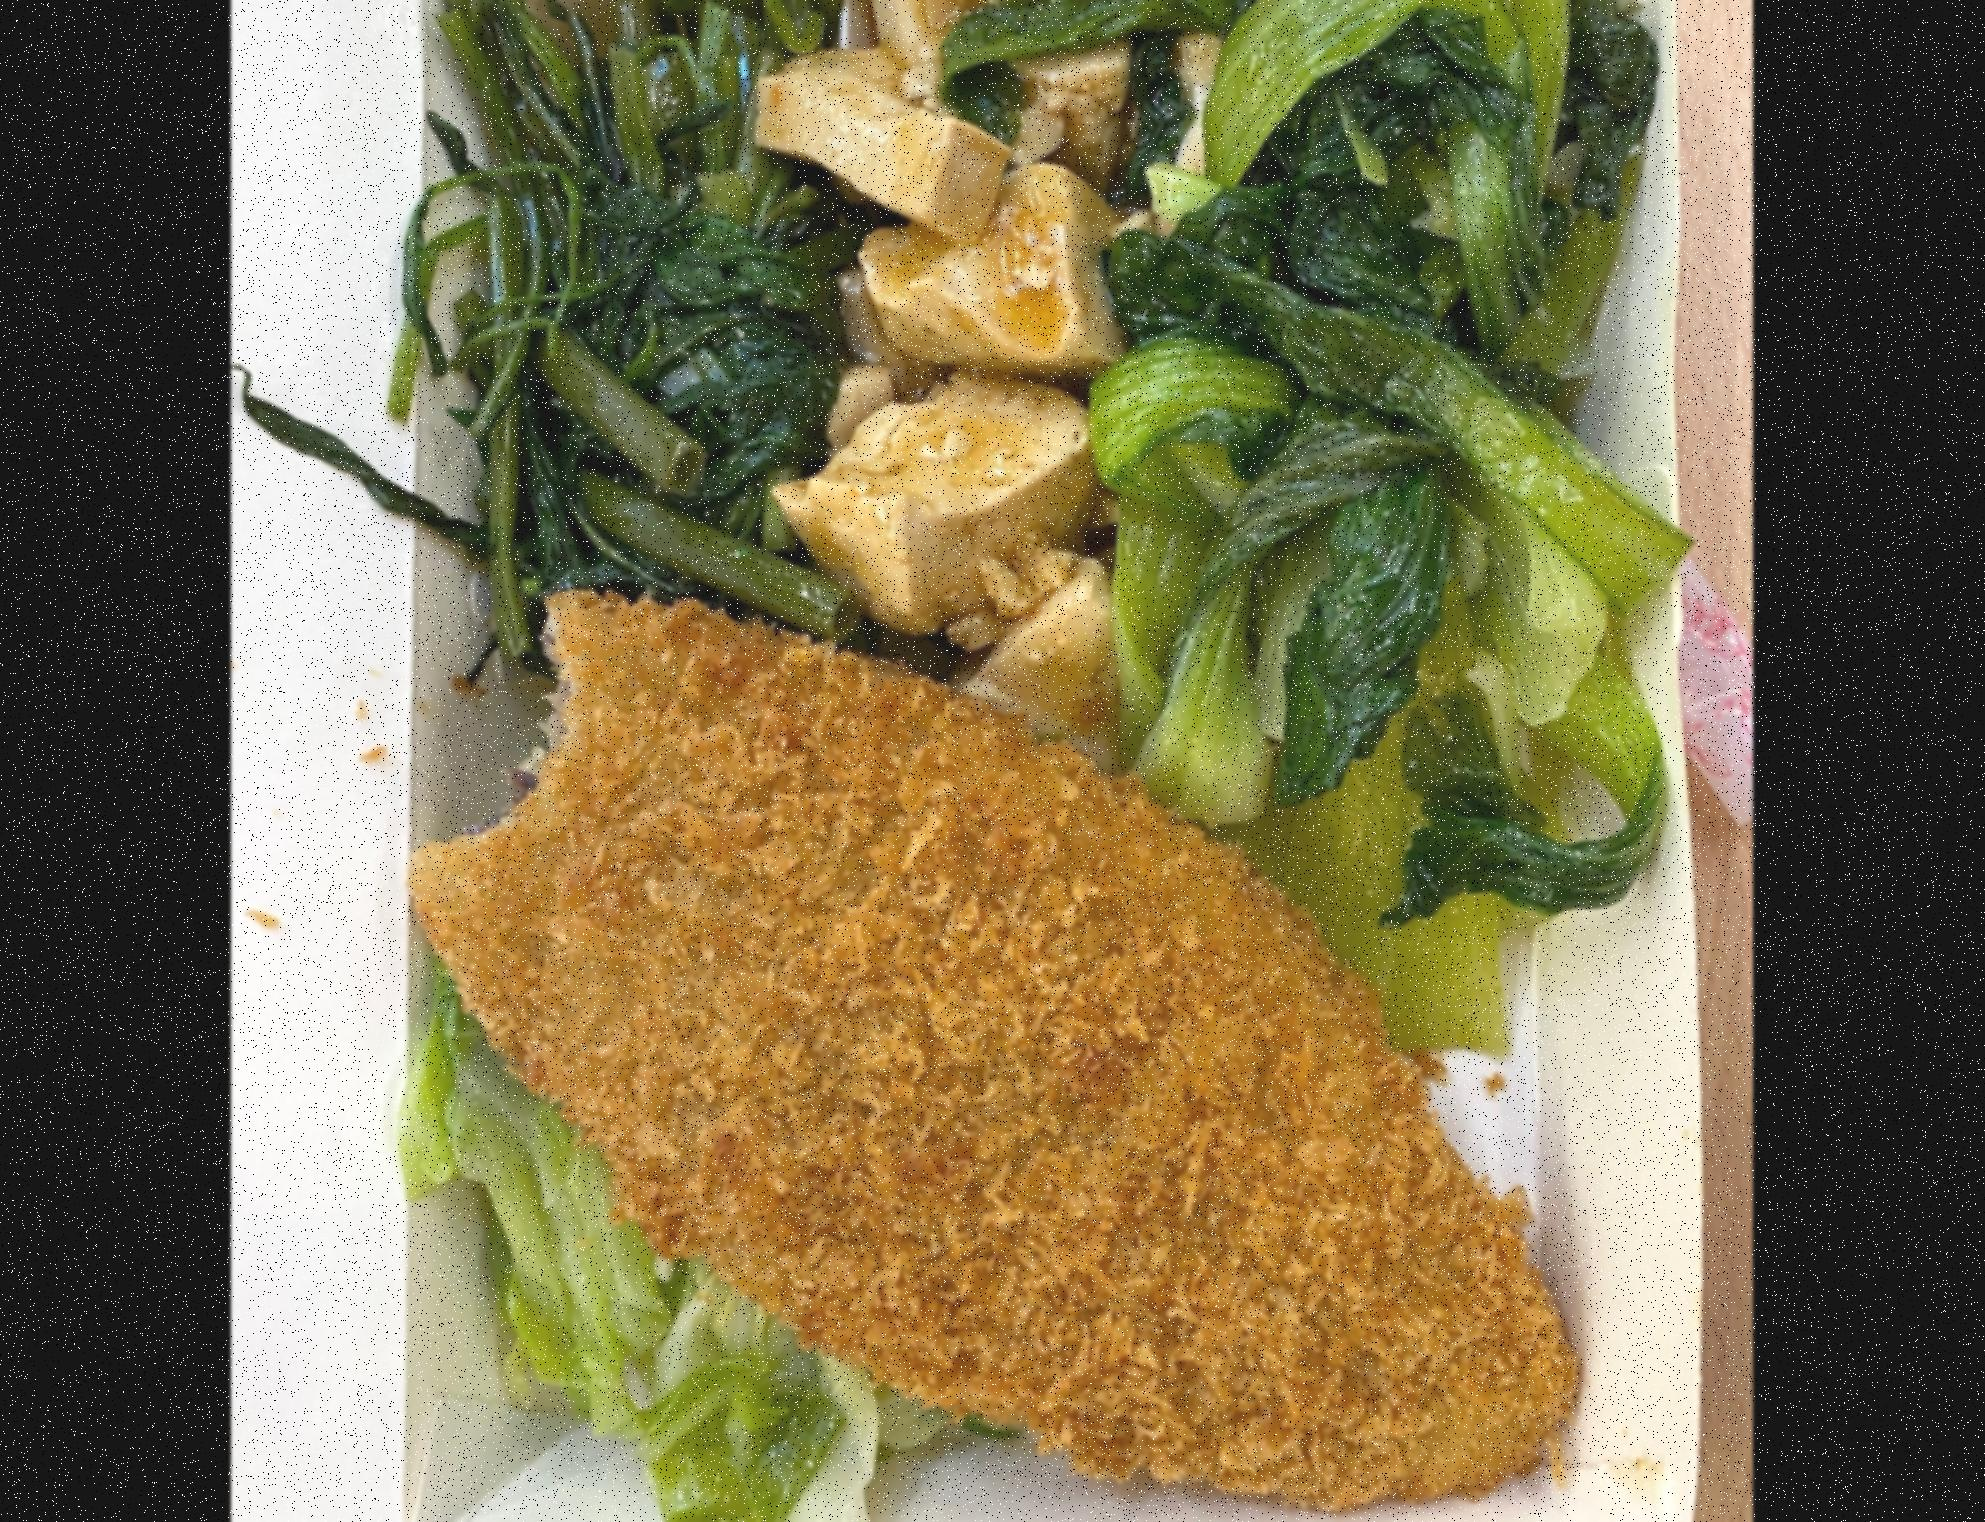box: (315, 0, 1736, 1522)
fried cod steak: (395, 572, 1590, 1522)
side dish: (1104, 0, 1637, 827), (372, 1009, 988, 1522), (395, 0, 834, 670), (778, 0, 1120, 676)
